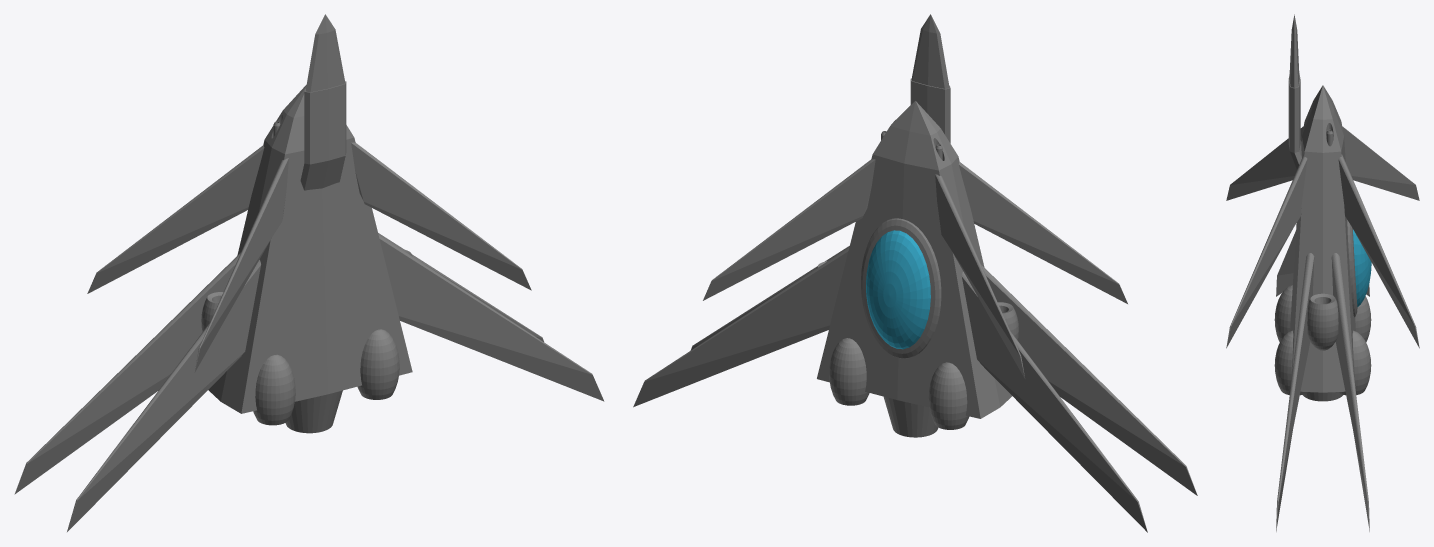
The model's file is Nave_Triangular_v1.0.obj.
3 renders of one model, left to right at view 1: azimuth 30°, elevation 25°; view 2: azimuth 150°, elevation 25°; view 3: azimuth 270°, elevation 25°, orthographic. The views are drawn at different scales.
Visible parts, largest first — view 1: Corpo.001_Cube.004, Asas.001_Plane.002, Asas.002_Plane.001, Turbinas_Auxiliares.002_Sphere.004, Engate_da_Lanças.001_Cube.006, Lança.001_Cube.005, Turbina_Principal.001_Cylinder.003; view 2: Asas.001_Plane.002, Corpo.001_Cube.004, Asas.002_Plane.001, Capsula.001_Sphere.005, Turbinas_Auxiliares.002_Sphere.004, Capsula_Bordas.001_Sphere.006, Lança.001_Cube.005, Turbina_Principal.001_Cylinder.003, Engate_da_Lanças.001_Cube.006; view 3: Corpo.001_Cube.004, Asas.002_Plane.001, Asas.001_Plane.002, Turbinas_Auxiliares.002_Sphere.004, Turbinas_Auxiliares.003_Sphere.007, Engate_da_Lanças.001_Cube.006, Capsula.001_Sphere.005, Lança.001_Cube.005, Capsula_Bordas.001_Sphere.006, Turbina_Principal.001_Cylinder.003.
Part boxes in pixels (bbox=[...]): Corpo.001_Cube.004: bbox=[208, 85, 412, 413]; Asas.001_Plane.002: bbox=[14, 233, 604, 531]; Asas.002_Plane.001: bbox=[87, 142, 531, 372]; Turbinas_Auxiliares.002_Sphere.004: bbox=[253, 329, 399, 425]; Engate_da_Lanças.001_Cube.006: bbox=[300, 81, 346, 190]; Lança.001_Cube.005: bbox=[305, 14, 344, 92]; Turbina_Principal.001_Cylinder.003: bbox=[285, 390, 342, 433]; Asas.001_Plane.002: bbox=[633, 246, 1197, 532]; Corpo.001_Cube.004: bbox=[817, 101, 1012, 418]; Asas.002_Plane.001: bbox=[703, 159, 1127, 379]; Capsula.001_Sphere.005: bbox=[866, 230, 930, 349]; Turbinas_Auxiliares.002_Sphere.004: bbox=[829, 338, 969, 429]; Capsula_Bordas.001_Sphere.006: bbox=[861, 218, 941, 358]; Lança.001_Cube.005: bbox=[911, 14, 949, 88]; Turbina_Principal.001_Cylinder.003: bbox=[883, 396, 938, 437]; Engate_da_Lanças.001_Cube.006: bbox=[910, 78, 950, 143]; Corpo.001_Cube.004: bbox=[1290, 85, 1355, 392]; Asas.002_Plane.001: bbox=[1226, 126, 1419, 348]; Asas.001_Plane.002: bbox=[1276, 231, 1369, 531]; Turbinas_Auxiliares.002_Sphere.004: bbox=[1274, 285, 1371, 395]; Turbinas_Auxiliares.003_Sphere.007: bbox=[1307, 293, 1338, 350]; Engate_da_Lanças.001_Cube.006: bbox=[1288, 73, 1301, 169]; Capsula.001_Sphere.005: bbox=[1353, 229, 1371, 306]; Lança.001_Cube.005: bbox=[1289, 14, 1299, 87]; Capsula_Bordas.001_Sphere.006: bbox=[1347, 220, 1357, 317]; Turbina_Principal.001_Cylinder.003: bbox=[1303, 392, 1342, 401].
Bounding box in the file's own units: 8.2 × 6.5 × 2.84.
